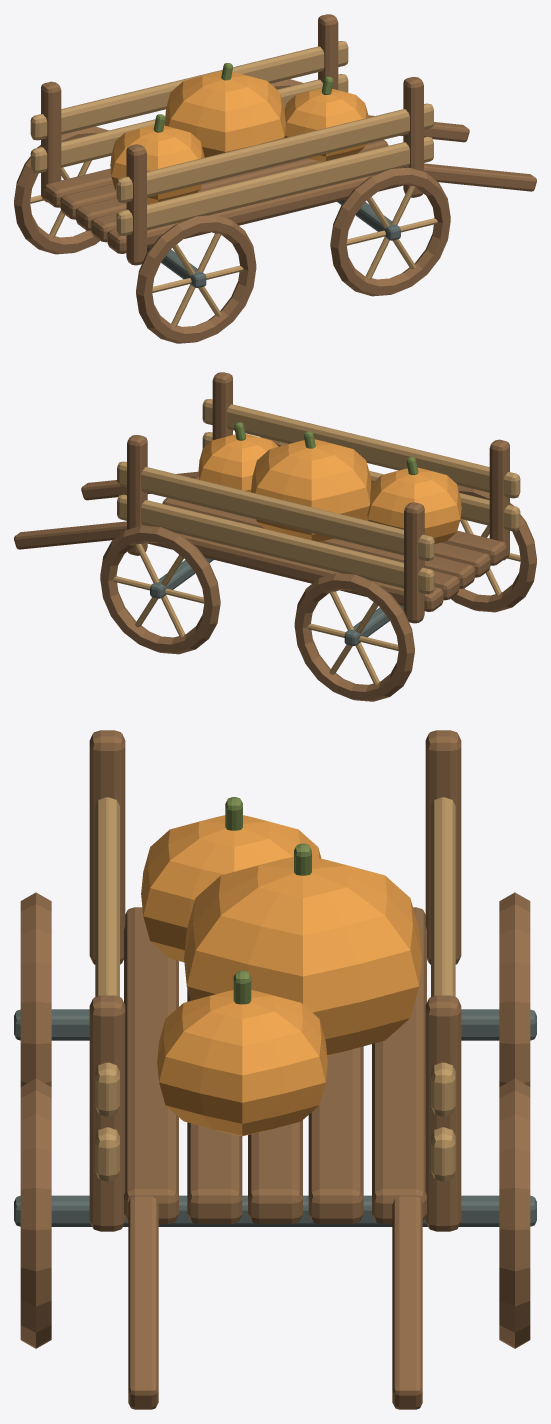
The model's file is trail_cart.glb.
3 renders of one model, top to bottom at view 1: azimuth 30°, elevation 25°; view 2: azimuth 150°, elevation 25°; view 3: azimuth 270°, elevation 25°, orthographic. The views are drawn at different scales.
Visible parts, largest first — view 1: trail_cart; view 2: trail_cart; view 3: trail_cart.
Part boxes in pixels (x1,y1,x2,y2): trail_cart: (14, 14, 536, 343); trail_cart: (14, 372, 536, 701); trail_cart: (14, 730, 536, 1409).
Bounding box in the file's own units: 3.51 × 1.61 × 1.9.
